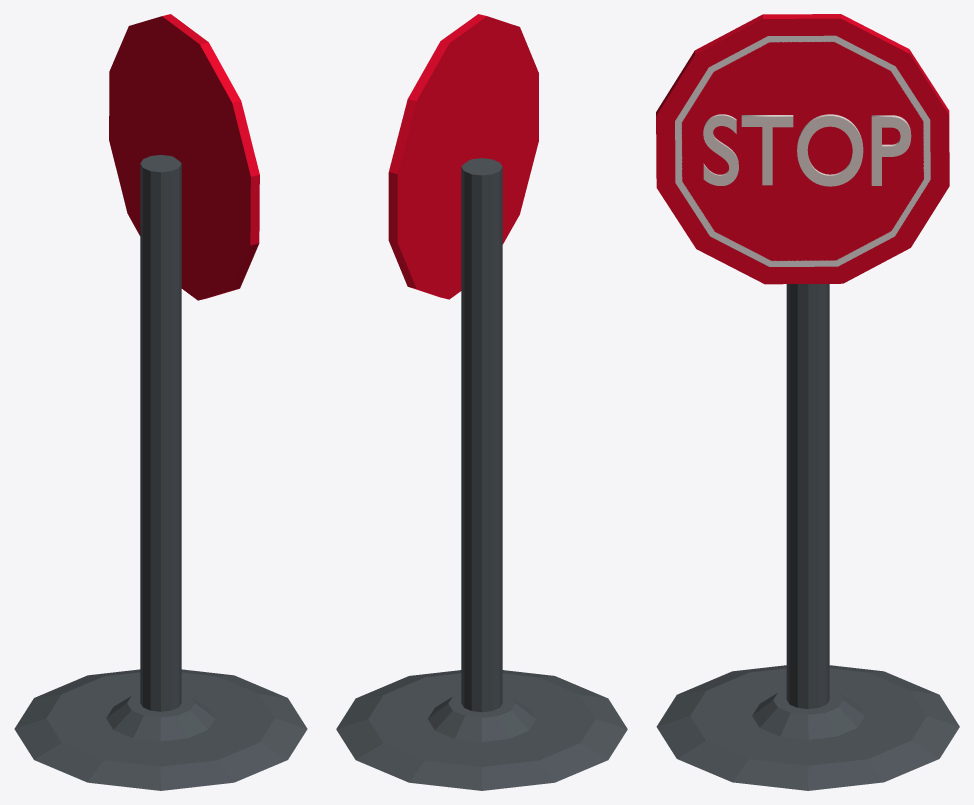
The model's file is Actung_2.fbx.
3 renders of one model, left to right at view 1: azimuth 30°, elevation 25°; view 2: azimuth 150°, elevation 25°; view 3: azimuth 270°, elevation 25°, orthographic. The views are drawn at different scales.
Visible parts, largest first — view 1: Circle, Circle.001; view 2: Circle, Circle.001; view 3: Circle.001, Circle, STOP.
Part boxes in pixels (bbox=[...]): Circle: bbox=[14, 155, 307, 790]; Circle.001: bbox=[109, 14, 259, 300]; Circle: bbox=[336, 158, 627, 790]; Circle.001: bbox=[388, 14, 538, 299]; Circle.001: bbox=[656, 14, 949, 284]; Circle: bbox=[656, 284, 959, 790]; STOP: bbox=[703, 114, 911, 186].
Size of the model in its own units: 200 by 525 by 200.
